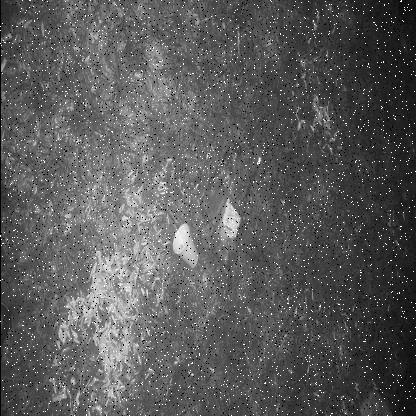foam: (172, 221, 199, 271)
plastic: (207, 140, 239, 218), (214, 196, 243, 272)
